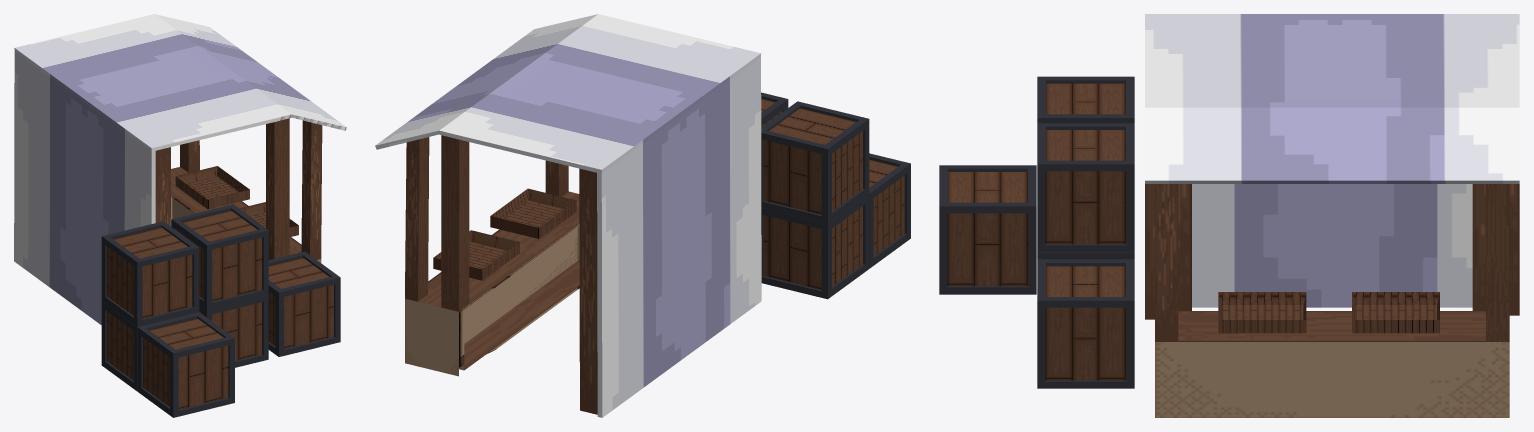
Rendered from Shop4.fbx.
3 views of the same model, side by side, from view 1: azimuth 30°, elevation 25°; view 2: azimuth 150°, elevation 25°; view 3: azimuth 270°, elevation 25° (orthographic). The views are drawn at different scales.
Visible parts, largest first — view 1: Cube.046; view 2: Cube.046; view 3: Cube.046.
Boxes of the visible parts, x1,y1,x2,y2 form: Cube.046: [14, 14, 346, 417]; Cube.046: [375, 14, 910, 417]; Cube.046: [939, 14, 1519, 417].
Bounding box in the file's own units: 113 × 93.12 × 167.
Materials: 16 (16 with a texture image).
